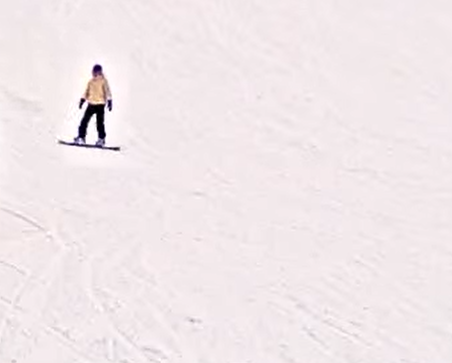snowboarder: (57, 61, 122, 153)
